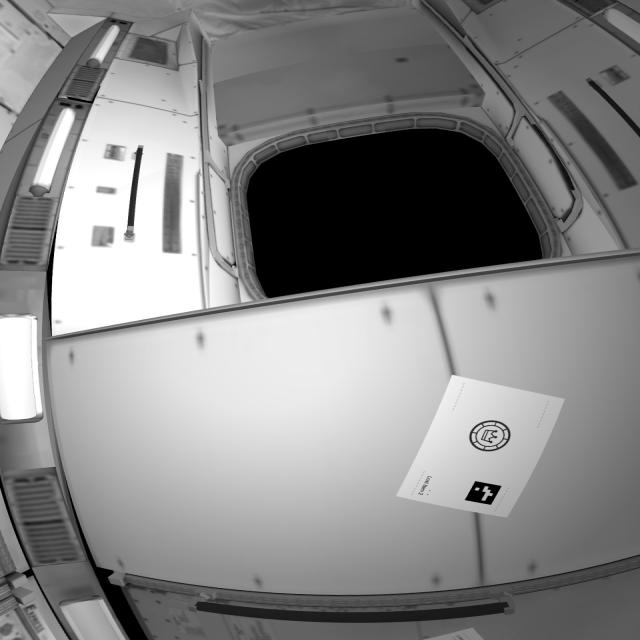coin: (460, 417, 523, 464)
